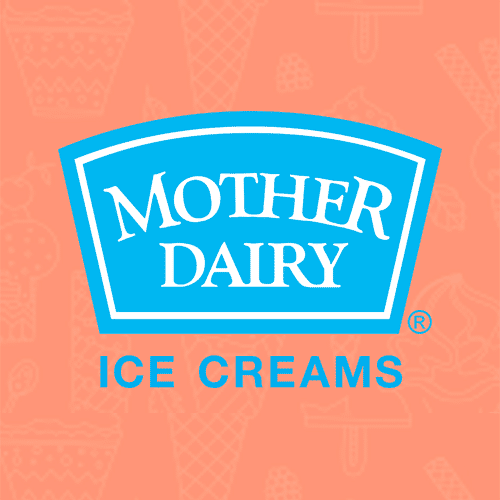Mother_Dairy: (50, 104, 459, 345)
